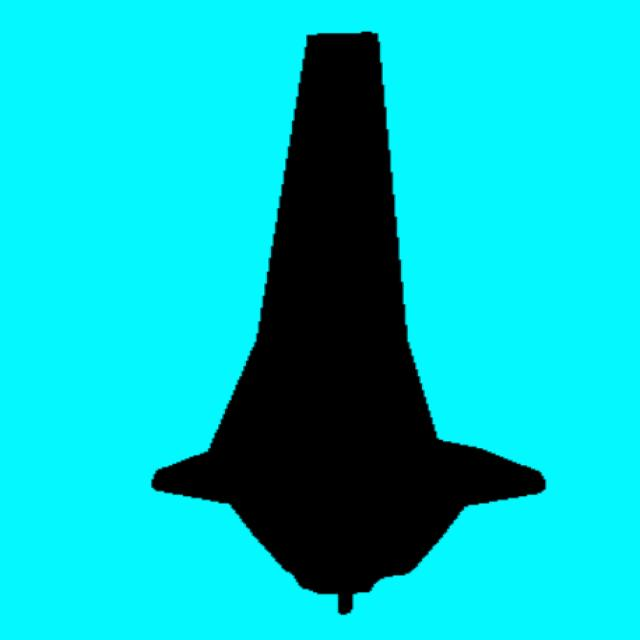BlackBuoy: (153, 32, 544, 613)
